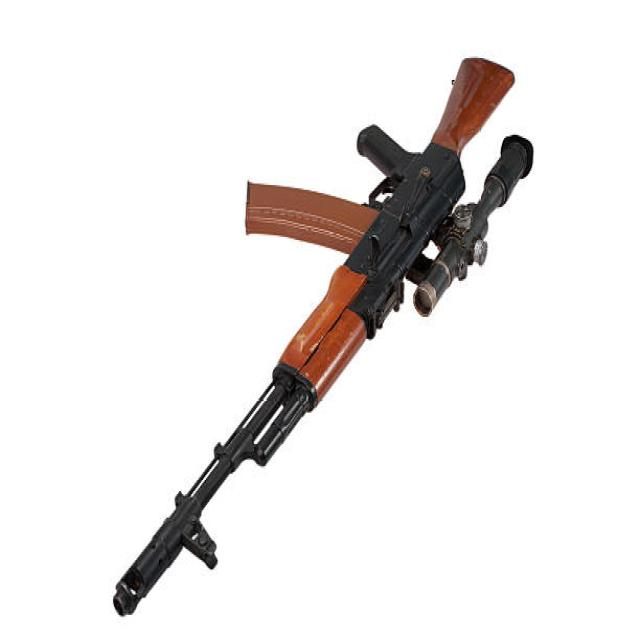rifle: (111, 51, 543, 624)
